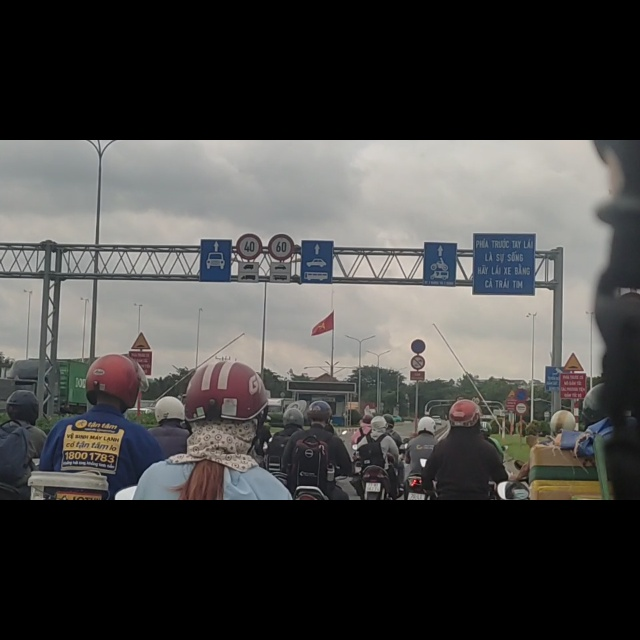bien_nguy_hiem: (235, 166, 263, 213), (268, 167, 295, 215), (545, 401, 563, 448), (563, 378, 583, 411), (131, 341, 151, 372), (411, 353, 426, 380), (411, 383, 425, 408), (516, 443, 529, 465), (515, 466, 528, 488), (506, 442, 516, 457)
